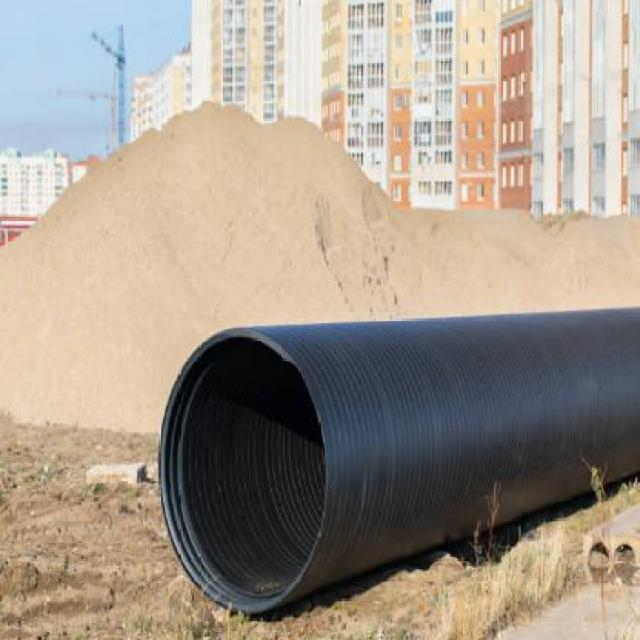pipe: (158, 326, 329, 614)
